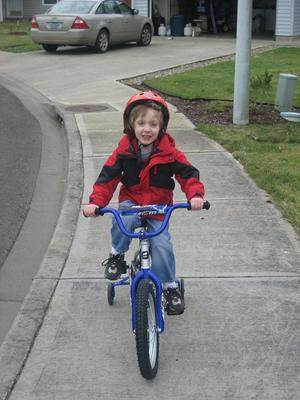person: (84, 90, 206, 318)
